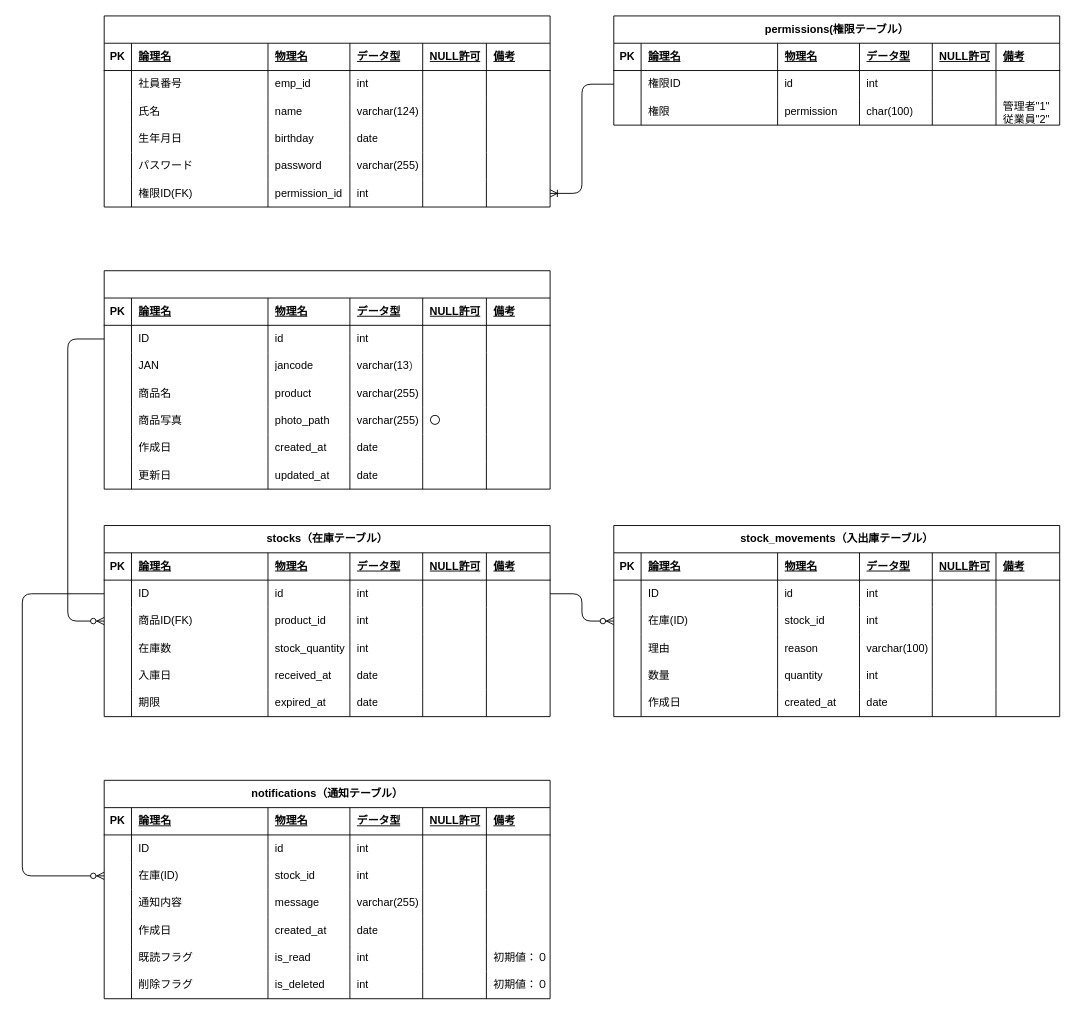
This 1076x1015 diagram has some shape labels left out. Each missing label, with the box of its shape:
accounts(アカウント）: (103, 15, 550, 207)
products（商品マスタ）: (103, 270, 550, 489)
